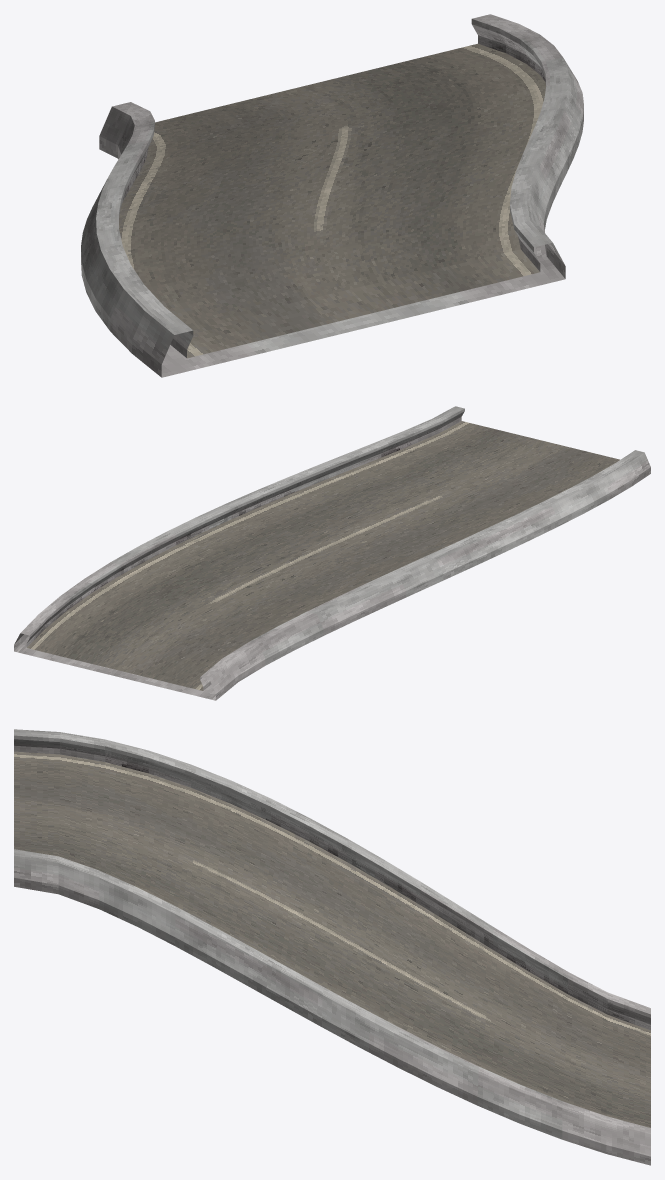
The model's file is chicane-right1x2.glb.
The picture shows the model from 3 angles, top to bottom: view 1: azimuth 30°, elevation 25°; view 2: azimuth 150°, elevation 25°; view 3: azimuth 270°, elevation 25°; orthographic projection. The views are drawn at different scales.
Parts seen in each view (by area): view 1: road-Chicane-Flat-BiSlopeDown-Down2-Right1-Size2; view 2: road-Chicane-Flat-BiSlopeDown-Down2-Right1-Size2; view 3: road-Chicane-Flat-BiSlopeDown-Down2-Right1-Size2.
Boxes of the visible parts, box(x1,y1,x2,y2) form: road-Chicane-Flat-BiSlopeDown-Down2-Right1-Size2: box(81, 14, 583, 377); road-Chicane-Flat-BiSlopeDown-Down2-Right1-Size2: box(14, 406, 650, 700); road-Chicane-Flat-BiSlopeDown-Down2-Right1-Size2: box(14, 729, 650, 1165).
Size of the model in its own units: 2 by 0.5938 by 2.
Materials: 2 (2 with a texture image).
